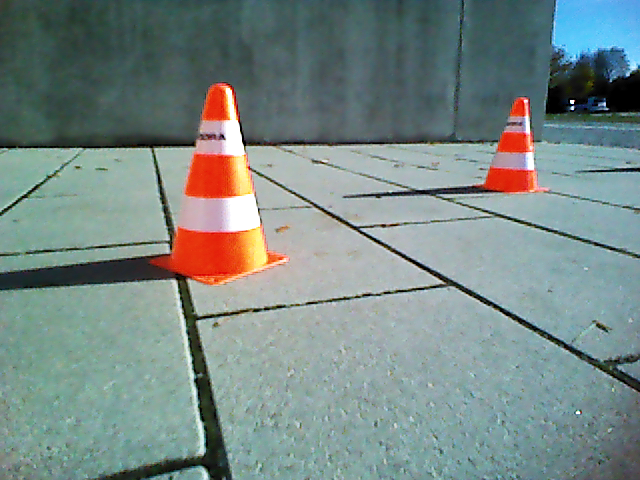orangeconesmall: (153, 81, 286, 284), (489, 98, 540, 194)
